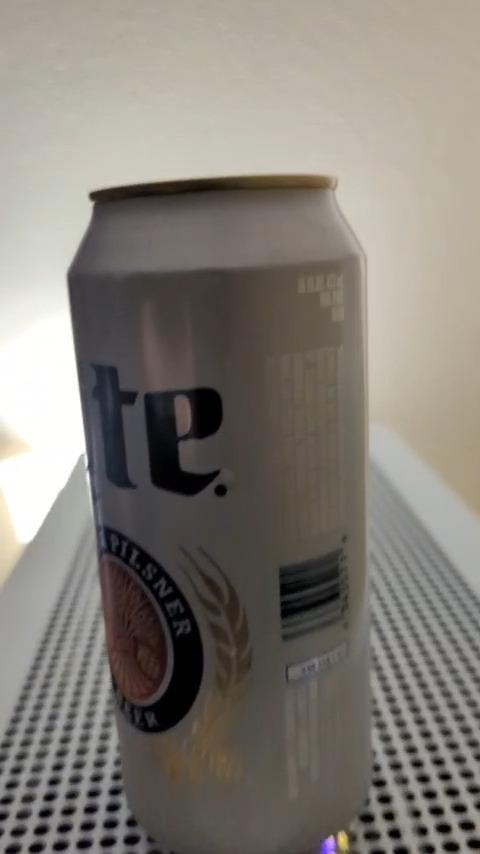metal: (68, 174, 369, 853)
